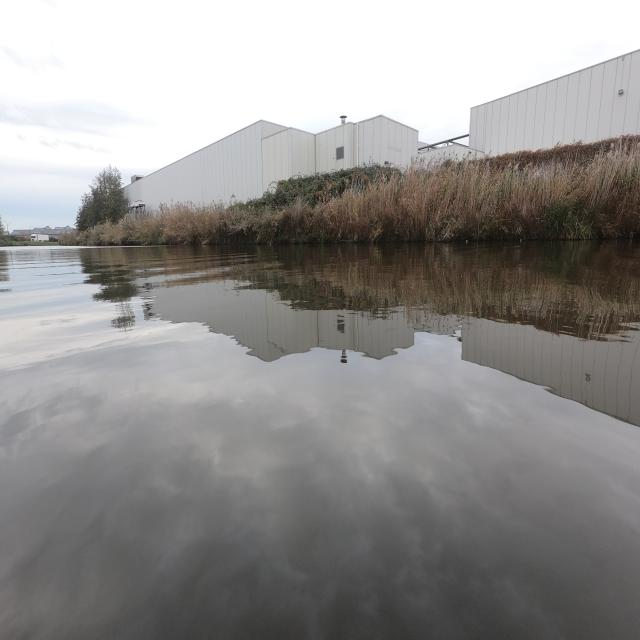reed: (65, 134, 640, 245)
water: (1, 235, 638, 639)
